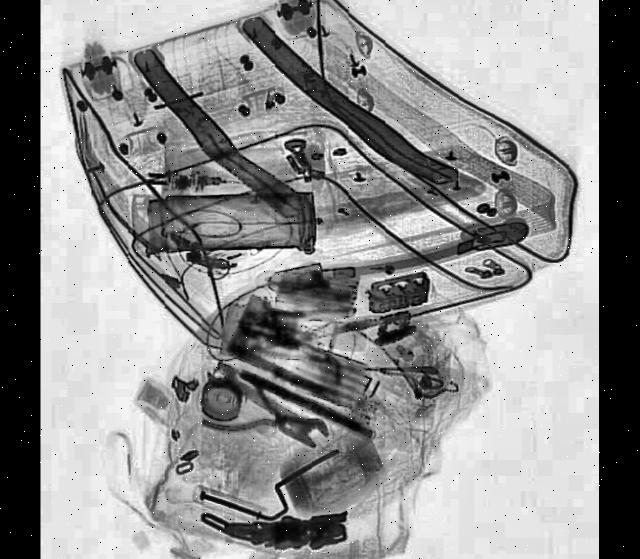Pliers: (200, 358, 316, 467)
Wrench: (209, 353, 336, 456)
